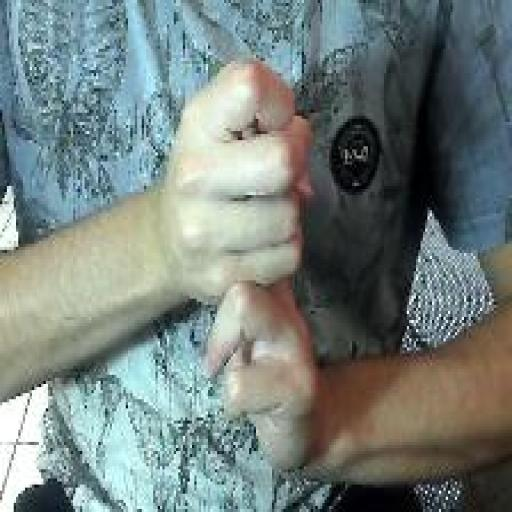Ne -rat-: (159, 52, 323, 484)
